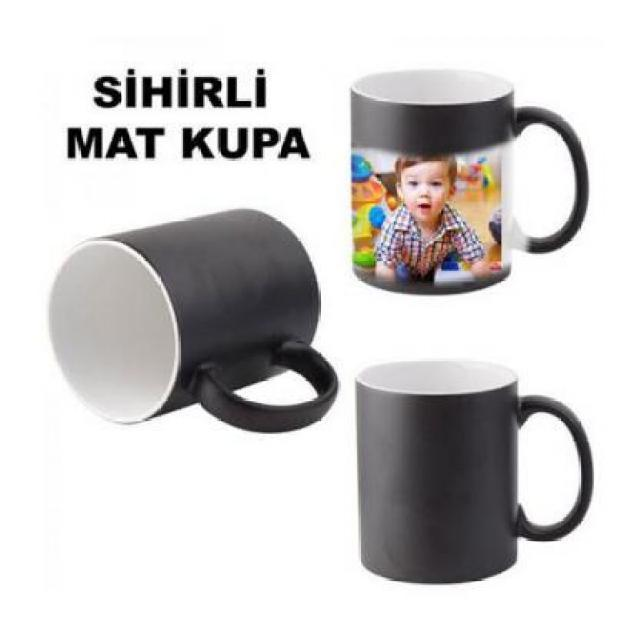taza: (49, 205, 339, 443), (348, 66, 591, 300), (352, 357, 594, 586)
